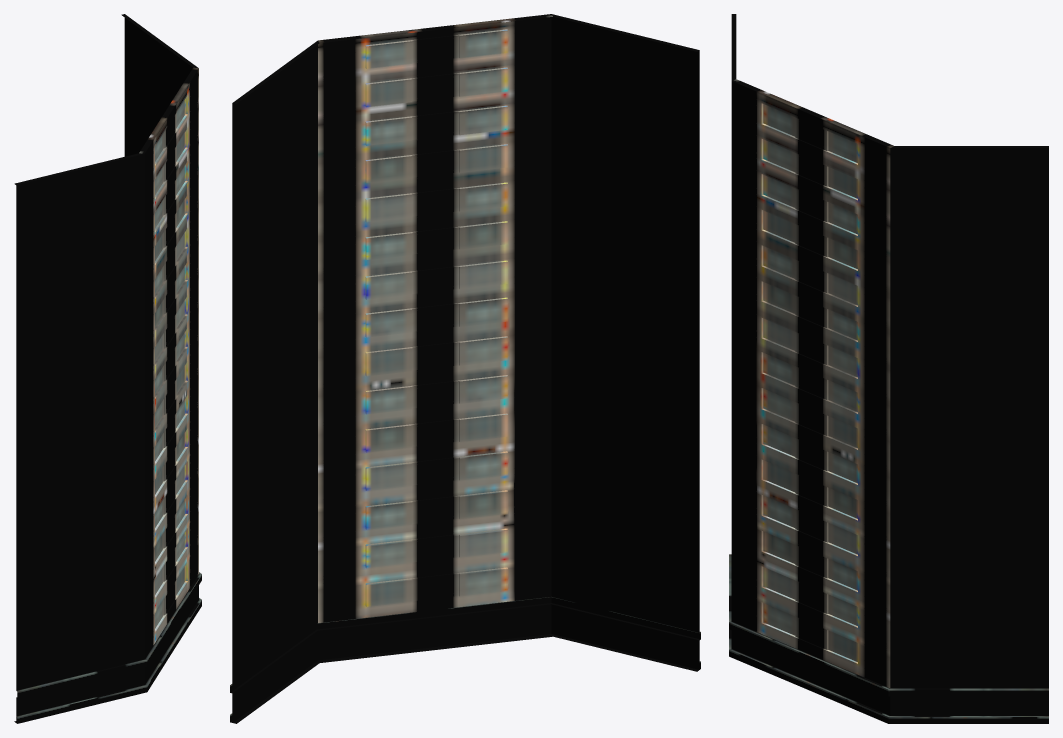
File: Pagoda_Body_Tile_Corner_Round_2500x5000_A.FBX
3 views of the same model, side by side, from view 1: azimuth 30°, elevation 25°; view 2: azimuth 150°, elevation 25°; view 3: azimuth 270°, elevation 25° (orthographic). The views are drawn at different scales.
Visible parts, largest first — view 1: Geometry_Pagoda_Body_Tile_Corner_Round_2500x5000_A_LOD00; view 2: Geometry_Pagoda_Body_Tile_Corner_Round_2500x5000_A_LOD00; view 3: Geometry_Pagoda_Body_Tile_Corner_Round_2500x5000_A_LOD00.
Part boxes in pixels (bbox=[...]): Geometry_Pagoda_Body_Tile_Corner_Round_2500x5000_A_LOD00: bbox=[14, 14, 201, 723]; Geometry_Pagoda_Body_Tile_Corner_Round_2500x5000_A_LOD00: bbox=[230, 14, 700, 723]; Geometry_Pagoda_Body_Tile_Corner_Round_2500x5000_A_LOD00: bbox=[729, 14, 1048, 723].
Size of what is drawn, in the model's own units: 2520 by 5000 by 2520.
